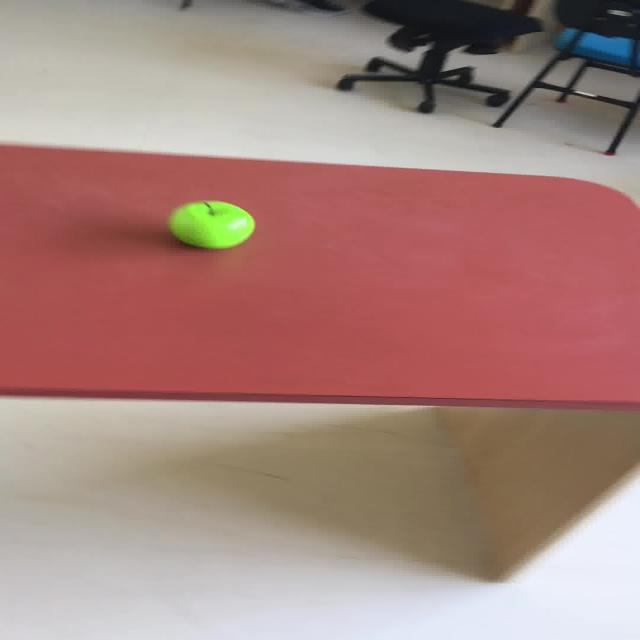apple: (166, 200, 255, 249)
